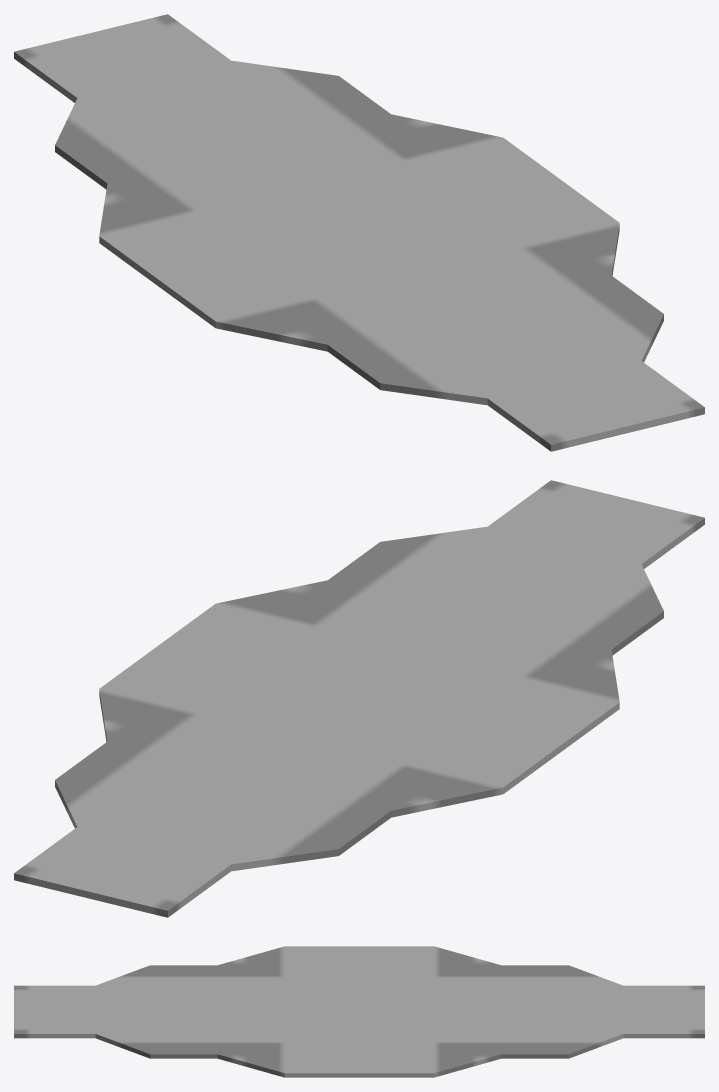
File: prop_Floor_EM_B.fbx
3 renders of one model, top to bottom at view 1: azimuth 30°, elevation 25°; view 2: azimuth 150°, elevation 25°; view 3: azimuth 270°, elevation 25°, orthographic. The views are drawn at different scales.
Parts seen in each view (by area): view 1: prop_Floor_EM_B; view 2: prop_Floor_EM_B; view 3: prop_Floor_EM_B.
Boxes of the visible parts, x1,y1,x2,y2 form: prop_Floor_EM_B: (14,14,704,451); prop_Floor_EM_B: (14,480,704,917); prop_Floor_EM_B: (14,946,704,1077).
Size of the model in its own units: 3834 by 62.7 by 8827.
